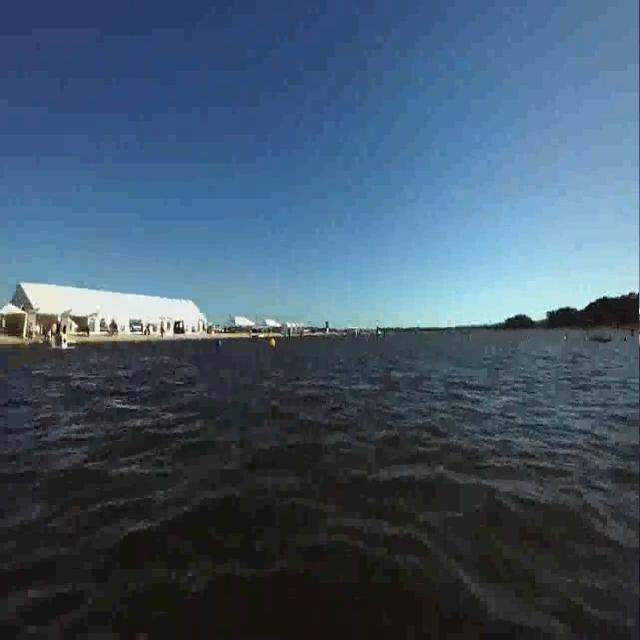red-column-buoy: (632, 326, 636, 338)
yellow-buoy: (271, 338, 278, 350)
